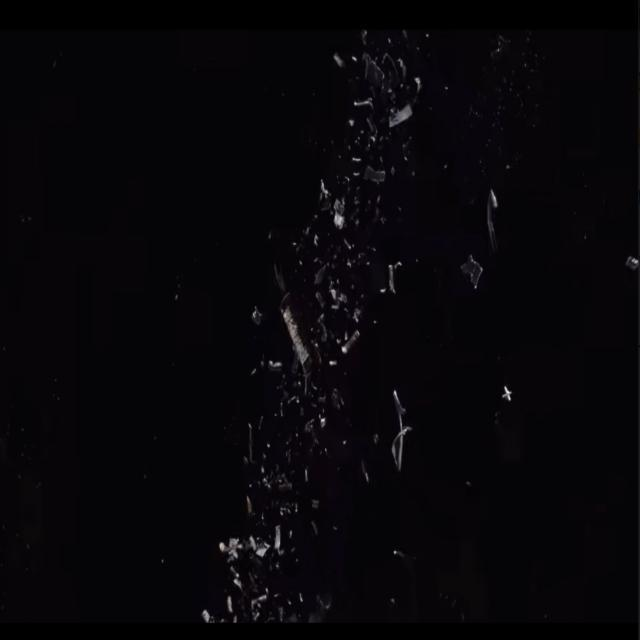large_debris: (280, 307, 316, 397), (389, 383, 415, 476), (484, 186, 500, 242), (338, 325, 365, 358), (363, 159, 394, 187), (330, 191, 349, 235), (465, 251, 485, 292), (362, 49, 386, 83), (388, 102, 418, 127), (217, 537, 245, 563), (252, 587, 274, 619), (248, 538, 276, 559), (388, 258, 404, 294), (272, 259, 292, 287), (270, 518, 284, 556), (275, 468, 295, 492), (314, 262, 332, 288), (246, 419, 256, 465), (354, 90, 376, 110), (332, 388, 347, 416), (229, 567, 247, 589), (260, 467, 276, 491), (319, 179, 333, 205), (360, 458, 373, 486), (309, 517, 325, 539), (330, 48, 346, 70), (301, 463, 317, 484), (319, 313, 330, 341), (371, 430, 385, 452), (346, 115, 362, 133), (315, 595, 331, 613), (397, 54, 410, 76), (242, 496, 256, 516), (393, 545, 409, 560), (202, 607, 216, 624), (503, 385, 517, 401), (625, 254, 639, 270), (303, 613, 321, 625), (251, 304, 261, 324), (350, 152, 364, 166), (361, 115, 375, 129), (227, 596, 239, 612), (316, 288, 326, 306), (375, 280, 385, 298), (325, 356, 337, 370), (319, 411, 328, 428), (411, 73, 419, 92), (426, 33, 434, 51), (309, 496, 319, 510), (304, 416, 314, 430), (354, 307, 364, 321), (343, 240, 353, 254), (270, 357, 283, 367), (288, 614, 302, 623), (298, 257, 306, 272), (330, 285, 338, 299), (296, 592, 308, 601), (282, 293, 292, 303), (338, 290, 348, 300), (312, 233, 322, 243), (351, 52, 359, 64), (267, 438, 275, 450), (231, 616, 239, 626), (330, 303, 340, 311), (361, 31, 369, 41), (345, 258, 353, 268), (391, 595, 397, 608), (251, 366, 258, 377), (496, 43, 503, 54), (353, 167, 361, 176), (279, 607, 285, 618), (267, 229, 275, 237), (371, 316, 377, 326), (340, 439, 348, 446), (260, 357, 266, 366), (443, 82, 449, 90), (370, 134, 376, 140), (288, 597, 292, 605), (386, 35, 391, 41), (293, 240, 298, 244), (347, 175, 351, 180), (355, 218, 359, 222)
